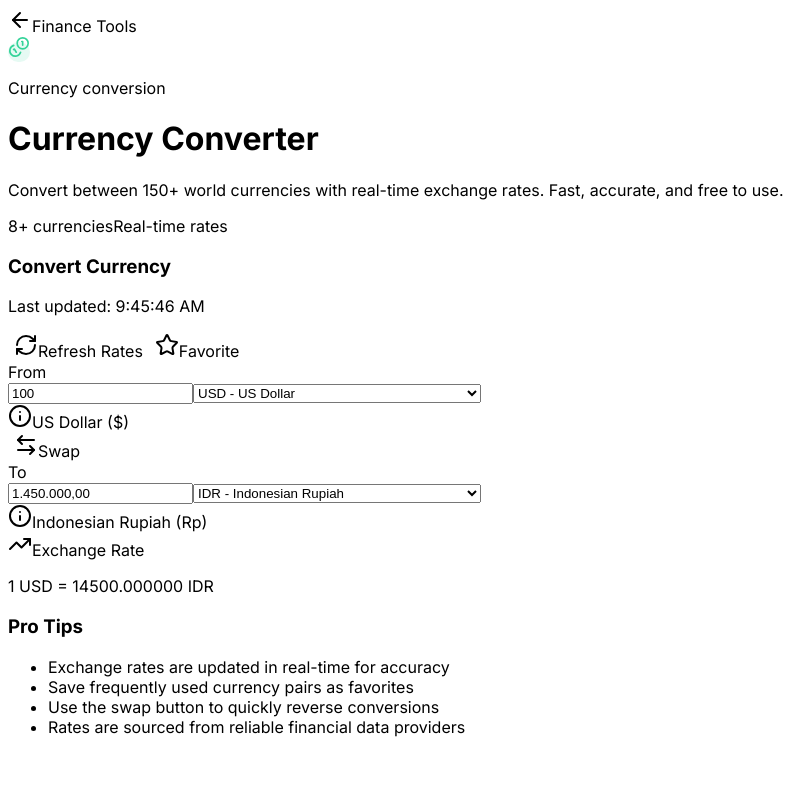
Currency Converter Page › Favorites › adds currency pair to favorites when button is clicked
The width and height of the screenshot is (800, 800).
What coordinates should you click on to do the following:
click the button "Favorite"
I would click on:
 (197, 347)
Its box is [149,332,245,362].
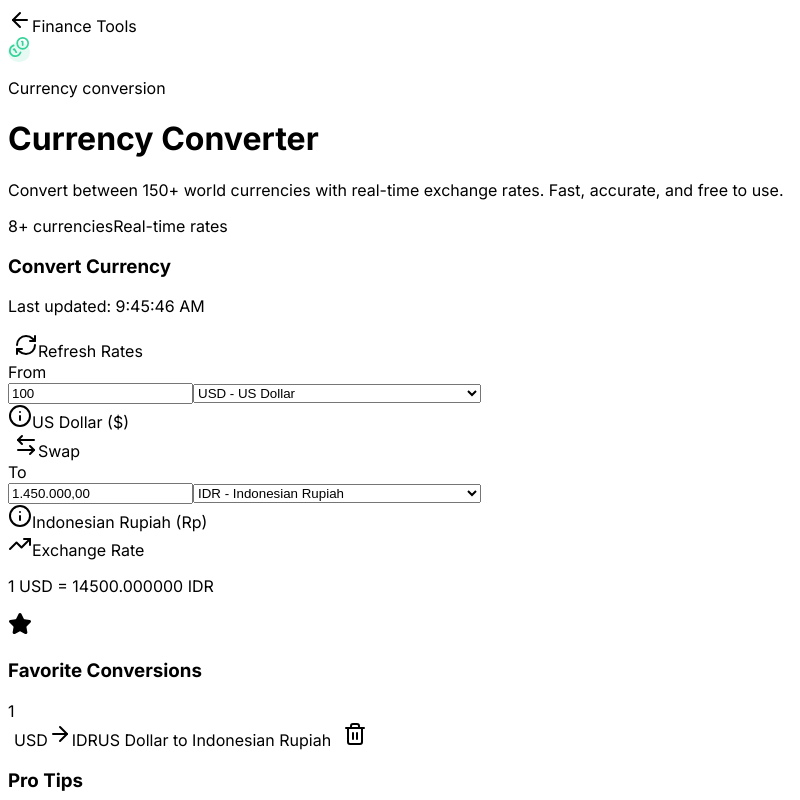
Expected: the heading "Favorite Conversions" is shown, [8,659,202,682]
